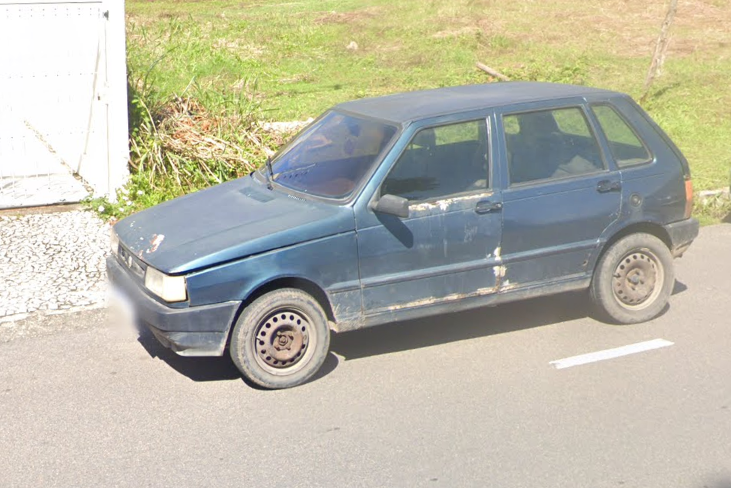car: (103, 77, 702, 391)
